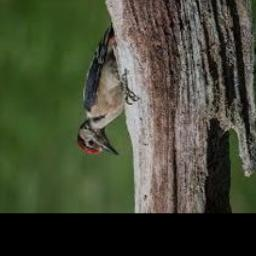Woodpecker: (77, 26, 126, 155)
